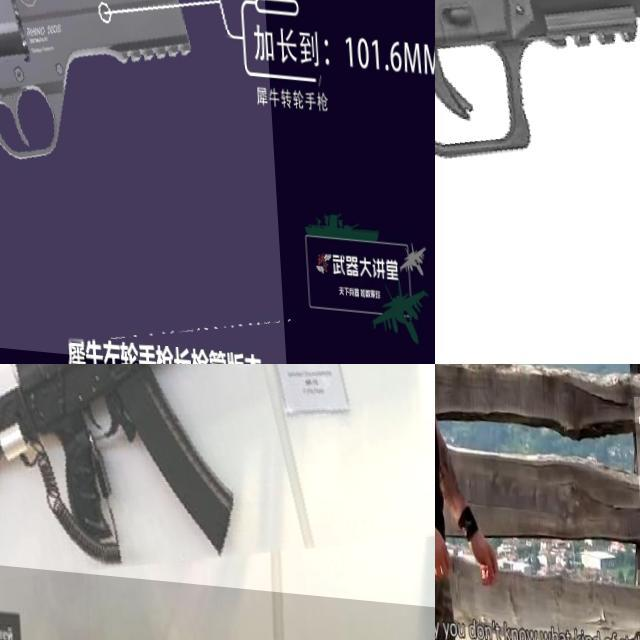-: (630, 388, 640, 519)
gun-knife-thesis - v11 Yolov5 augmented: (0, 364, 435, 609), (0, 0, 279, 364), (435, 0, 640, 364)
